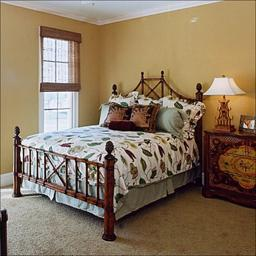Cama: (15, 81, 203, 236)
Ventana: (37, 25, 78, 128)
